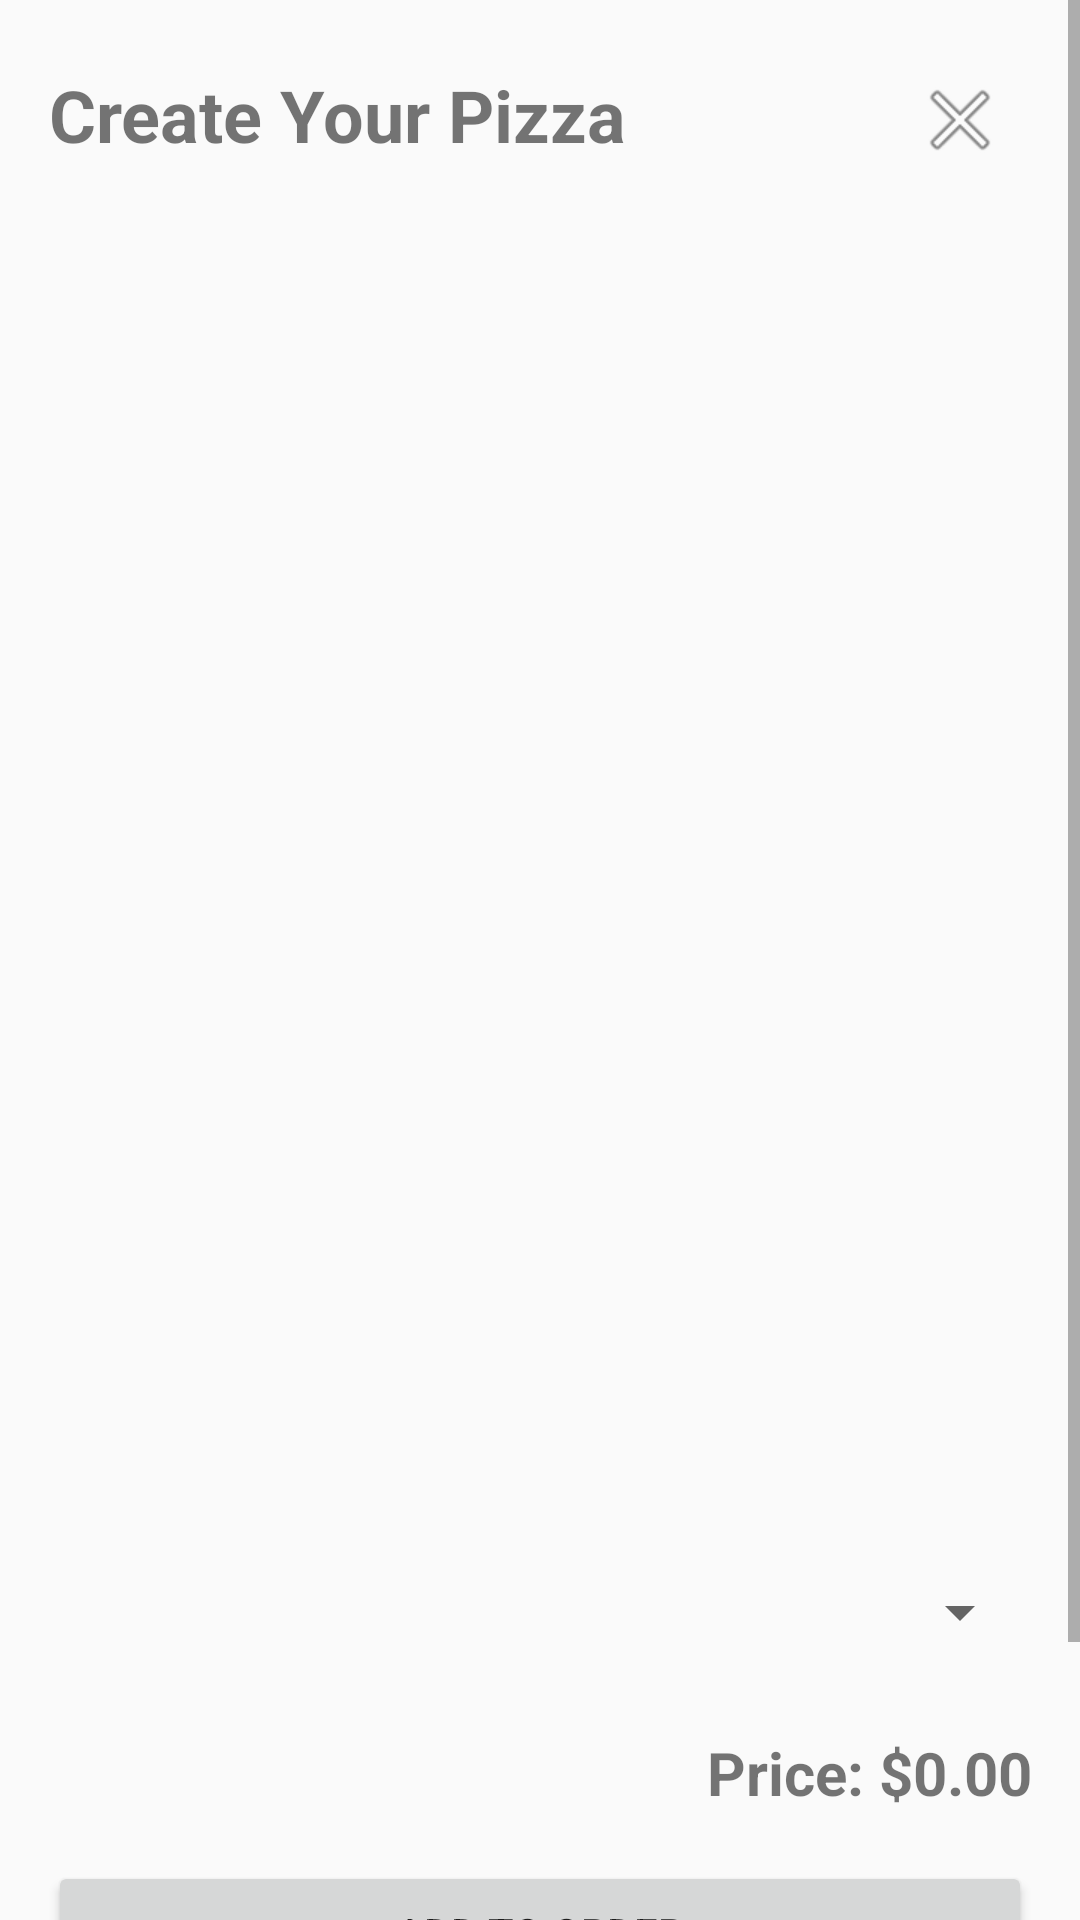

Icons on this 1080w x 1920h Android screen, each with its box as (x1, y1, x2, y2):
close clear cancel: (930, 90, 990, 150)
